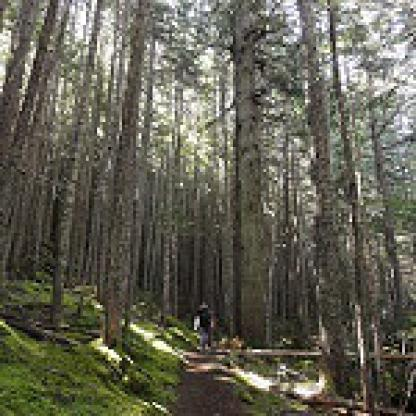road: (175, 333, 247, 413)
trunk: (294, 0, 361, 408), (42, 0, 106, 330), (94, 0, 150, 350), (227, 0, 272, 352)
